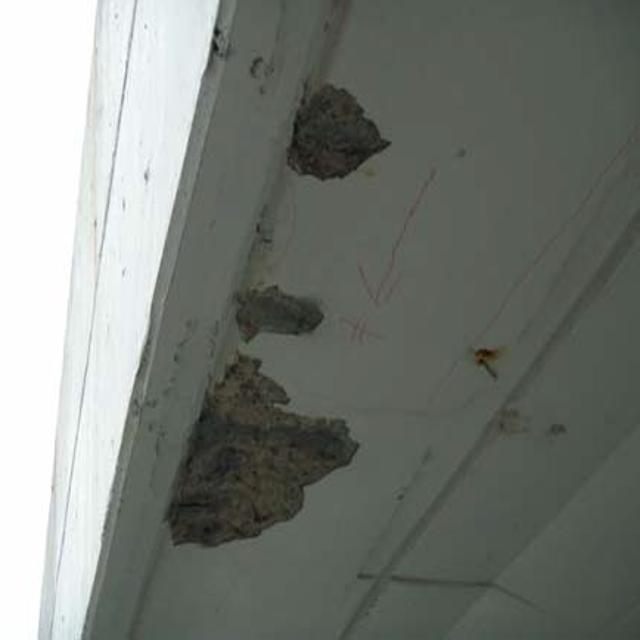spalling: (157, 360, 370, 559), (276, 67, 407, 199), (224, 280, 344, 344)
